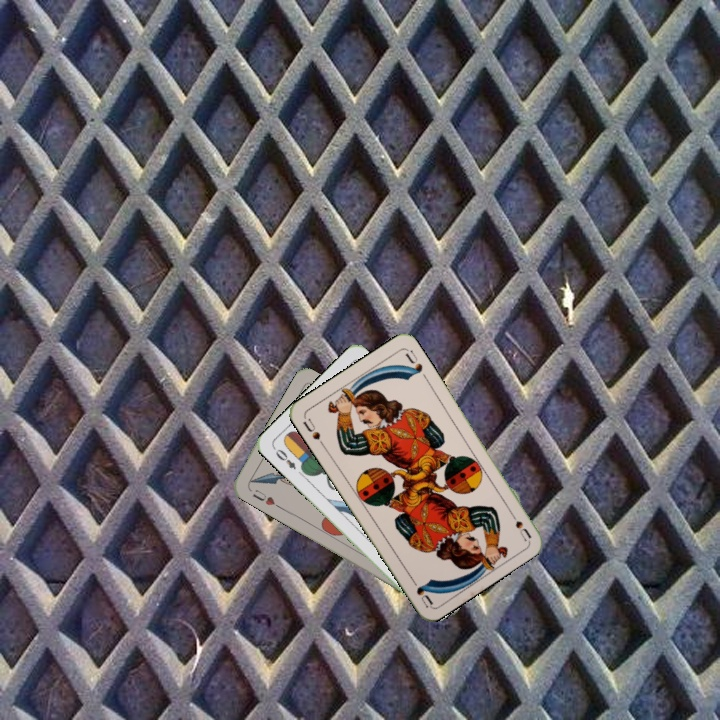EO: (272, 445, 299, 472)
HU: (248, 485, 282, 510)
SU: (504, 505, 534, 543), (299, 414, 327, 450)
